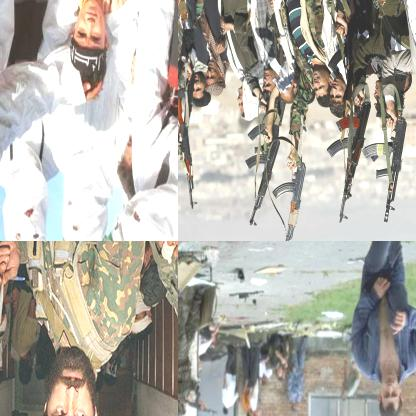rifle: (324, 96, 373, 226), (363, 110, 412, 230), (272, 134, 312, 240), (242, 124, 282, 230), (178, 85, 204, 212), (183, 387, 221, 415)
